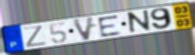5: (48, 21, 68, 44)
9: (150, 7, 175, 31)
E: (96, 14, 123, 38)
N: (127, 9, 152, 36)
V: (71, 16, 97, 43)
Z: (22, 24, 48, 49)
